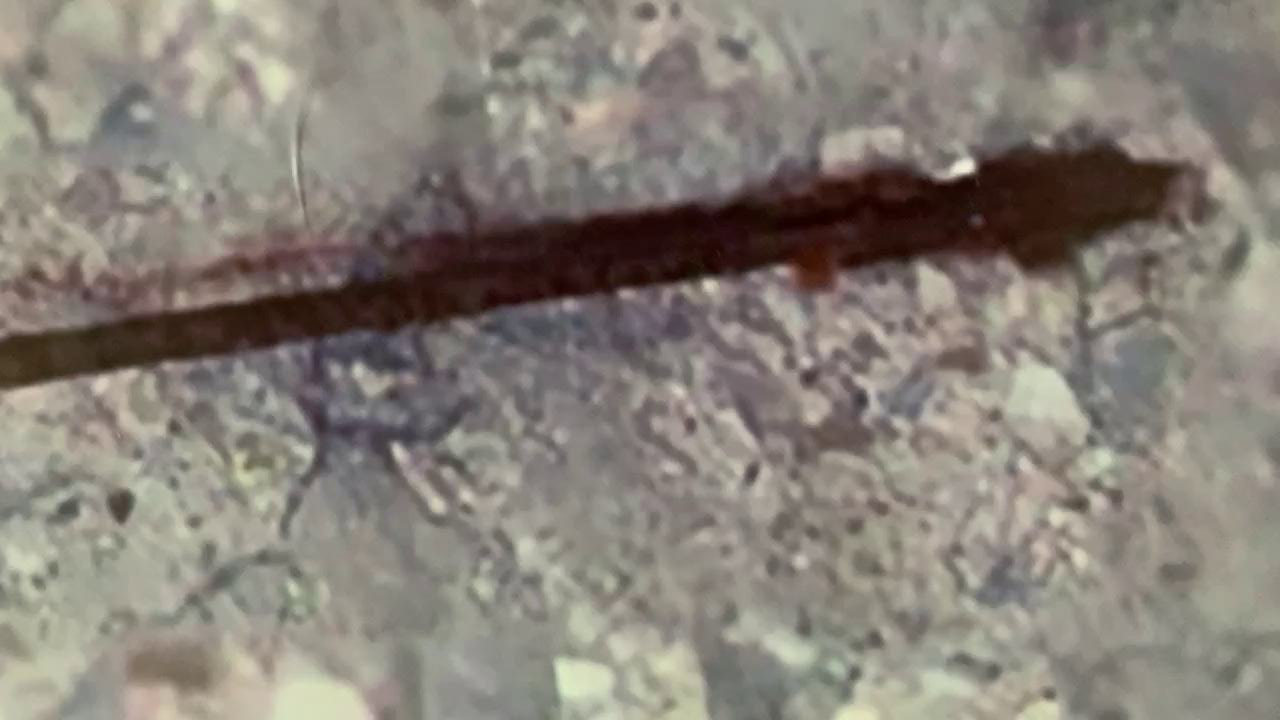Exposed reinforcement: (1, 140, 1183, 392)
